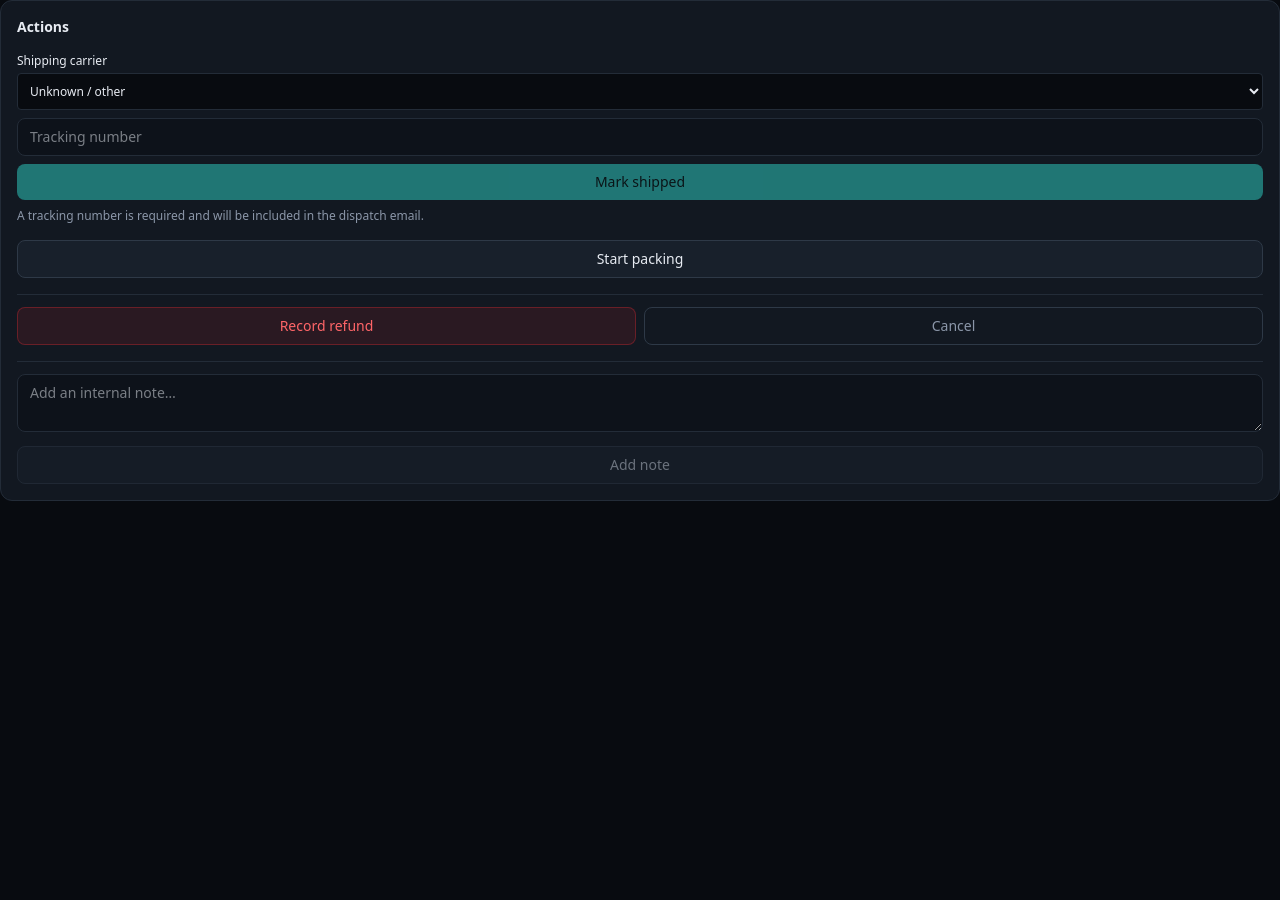
Test case: requires exact full refund review, binds stock choice, and forces renewed review after stale state
The width and height of the screenshot is (1280, 900).
Click the button "Record refund" at (326, 326), box [17,307,636,345]
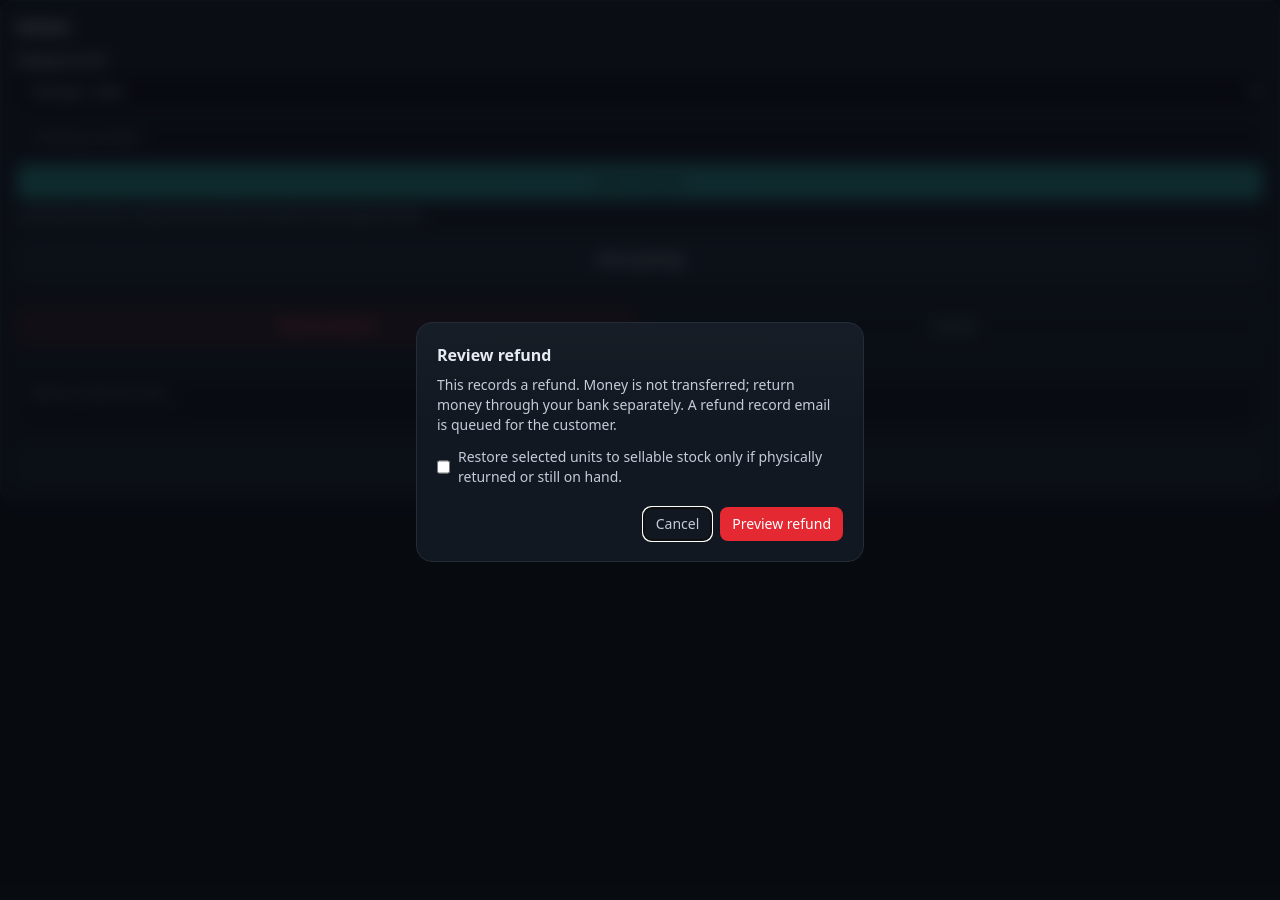
Click the button "Preview refund" at (782, 524), box [720,507,843,541]
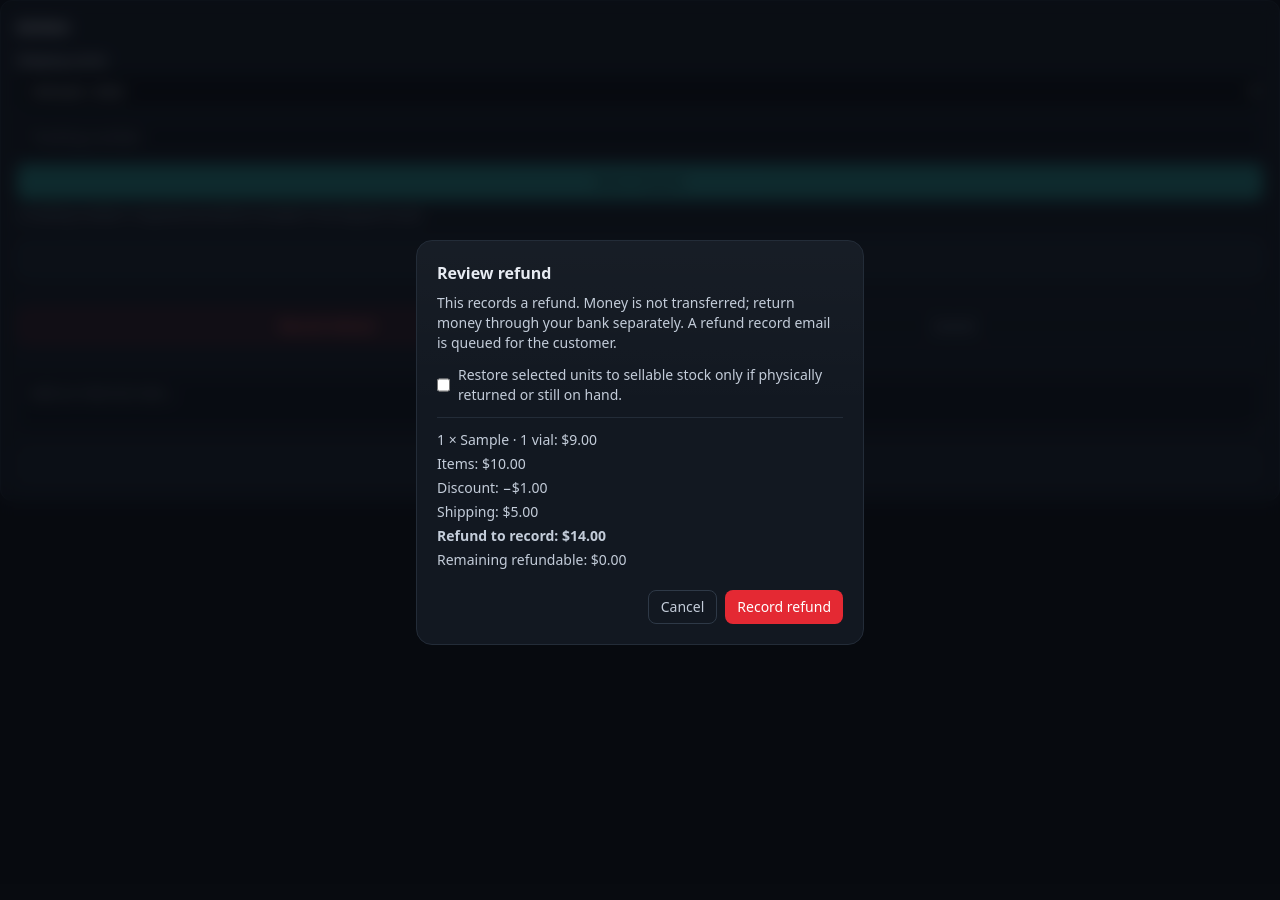
Result: the text "Refund to record: $14.00" is shown at [437,526,606,544]
Result: the text "Discount: −$1.00" is shown at [437,478,548,496]
Result: the text "Shipping: $5.00" is shown at [437,502,538,520]
Click the checkbox at (444, 384), box [437,364,450,404]
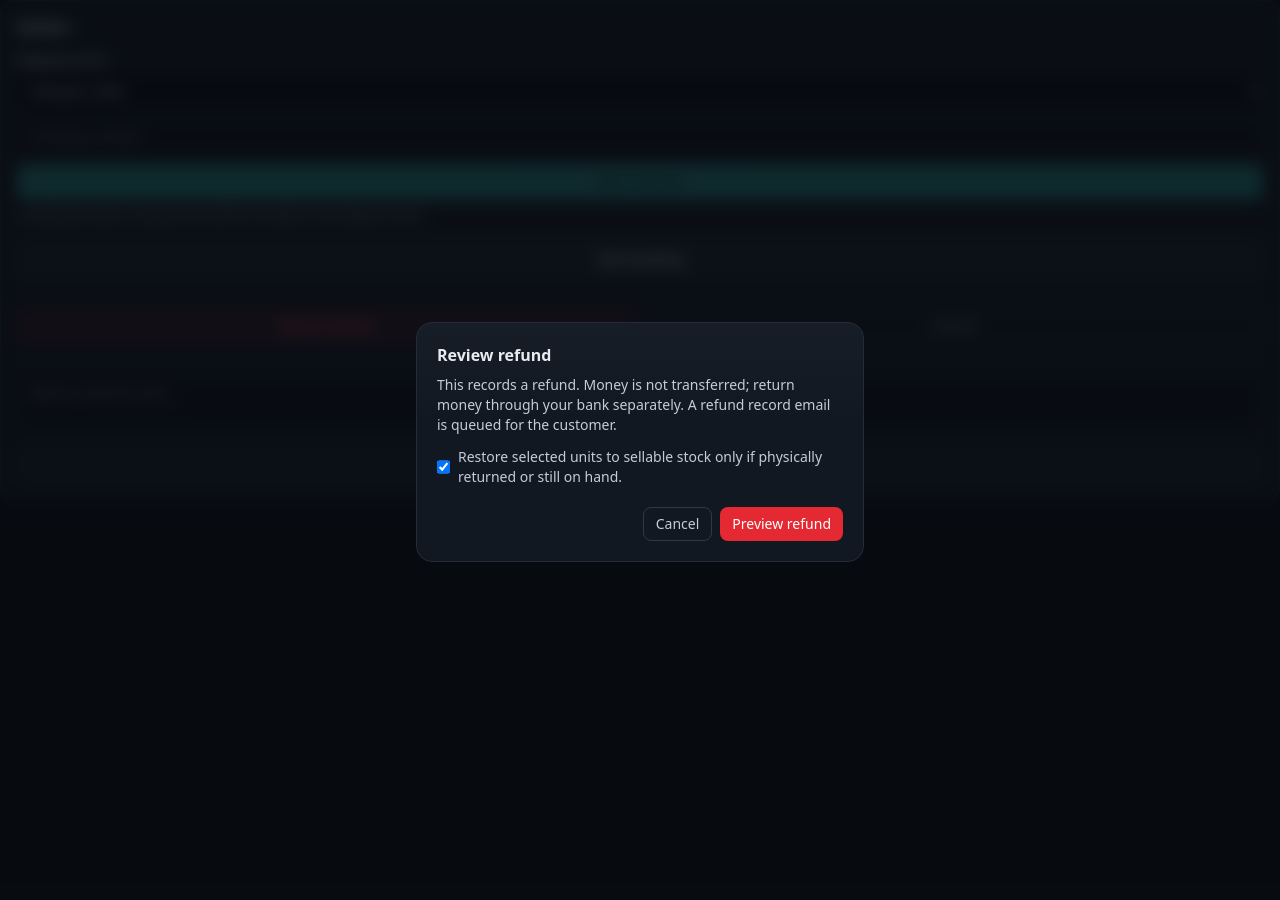
Result: the text "Refund to record: $14.00" is gone
Click the button "Preview refund" at (782, 524), box [720,507,843,541]
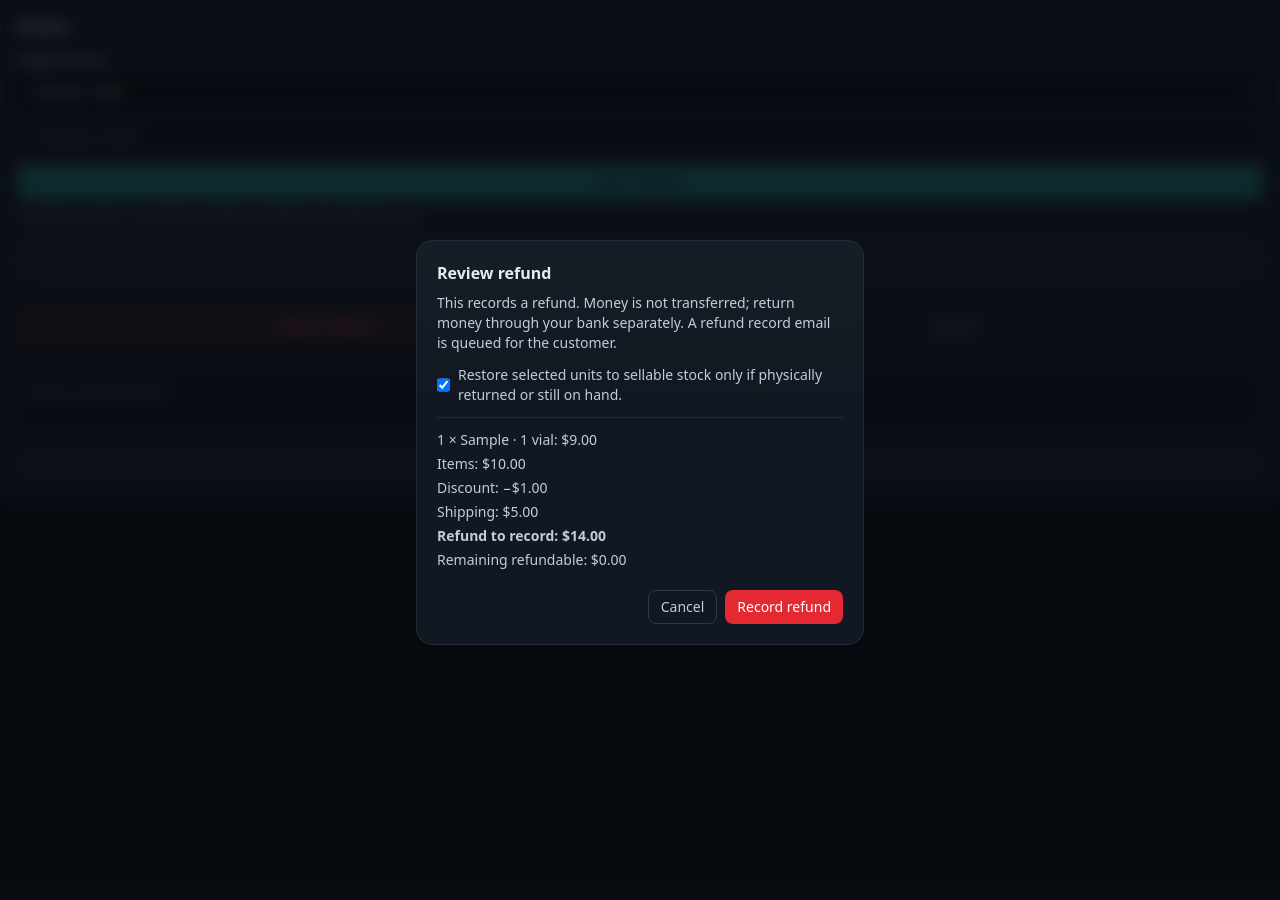
Result: the button "Record refund" is enabled
Result: the text "Refund to record: $14.00" is shown at [437,526,606,544]
Click the button "Record refund" at (784, 606), box [725,590,843,624]
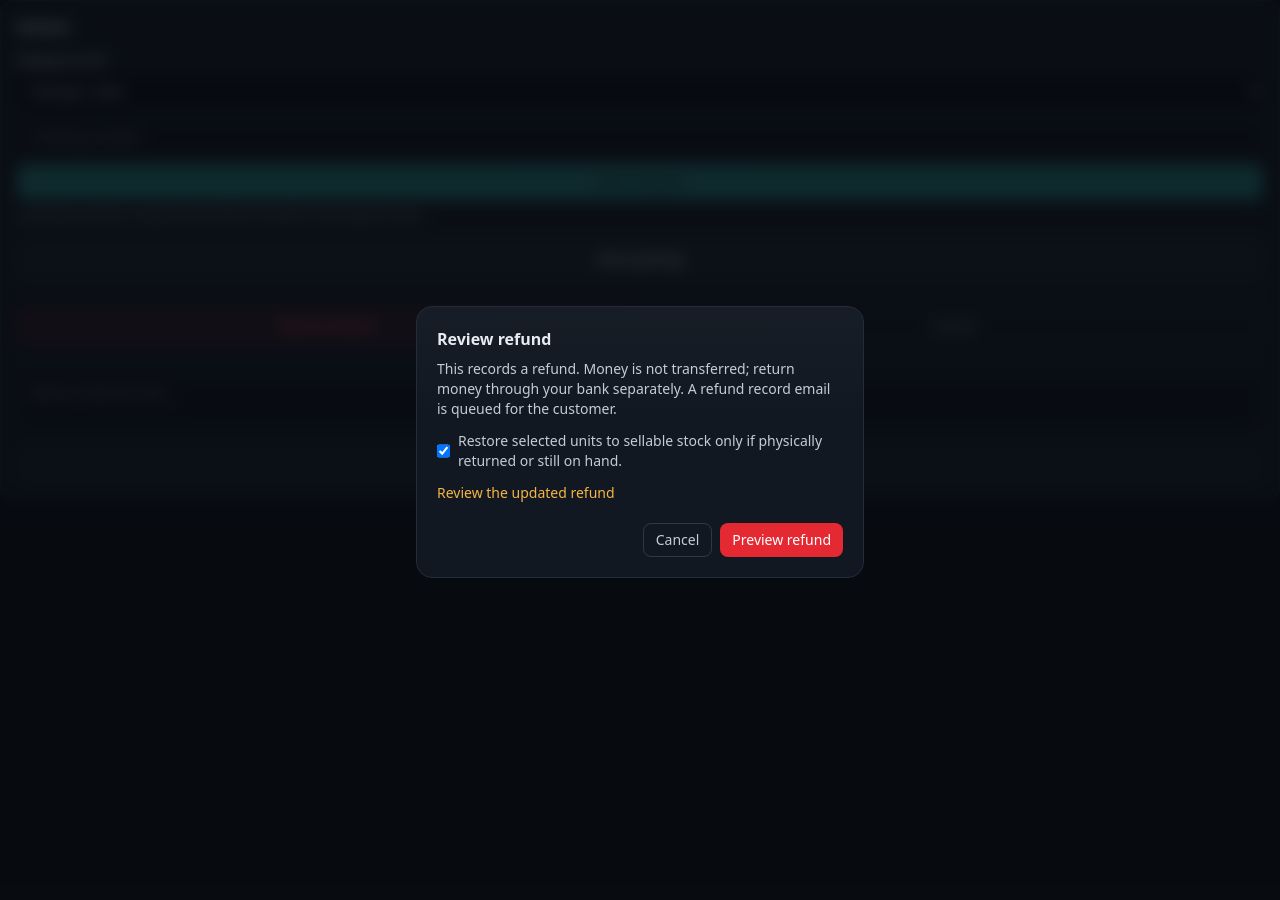
Result: the message "Review the updated refund" is shown at [437,483,615,502]
